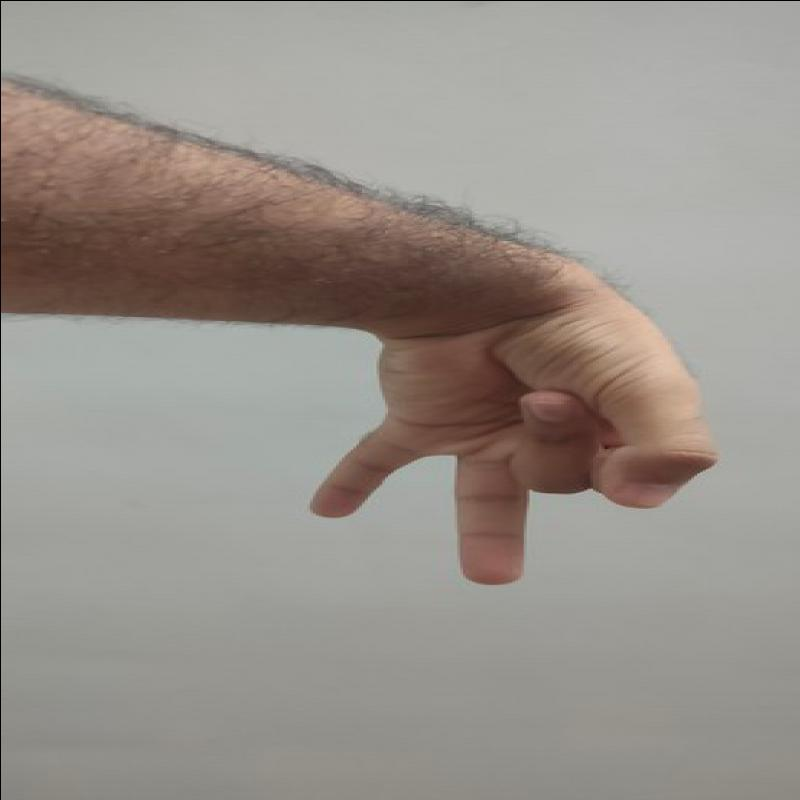Katakam: (295, 284, 726, 594)
